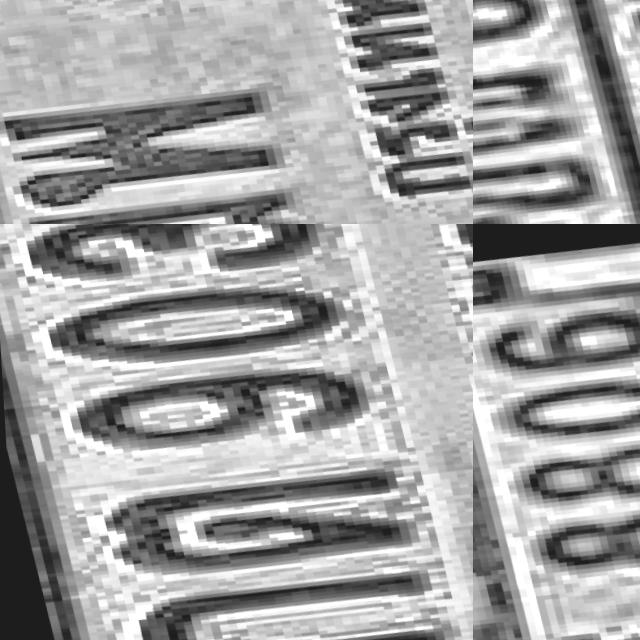license-plate: (0, 224, 473, 640), (0, 0, 473, 224), (473, 224, 640, 640), (473, 0, 640, 224)
